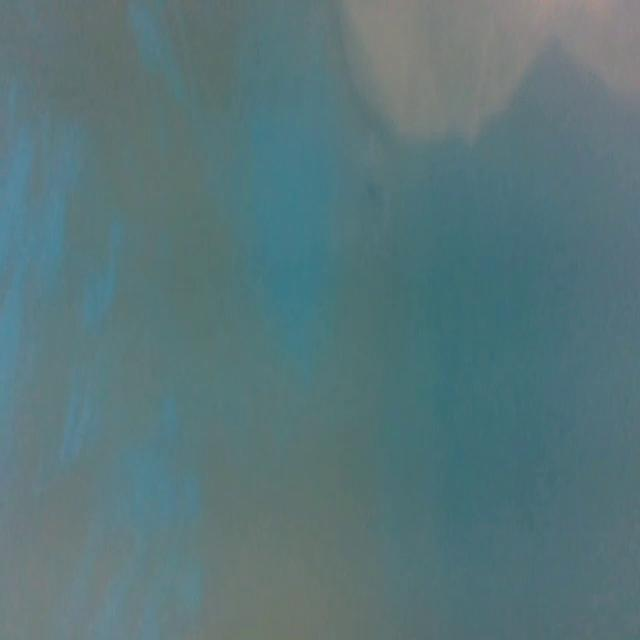plastic bags: (327, 3, 640, 149)
